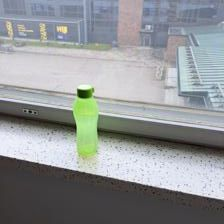bottle: (70, 83, 102, 157)
